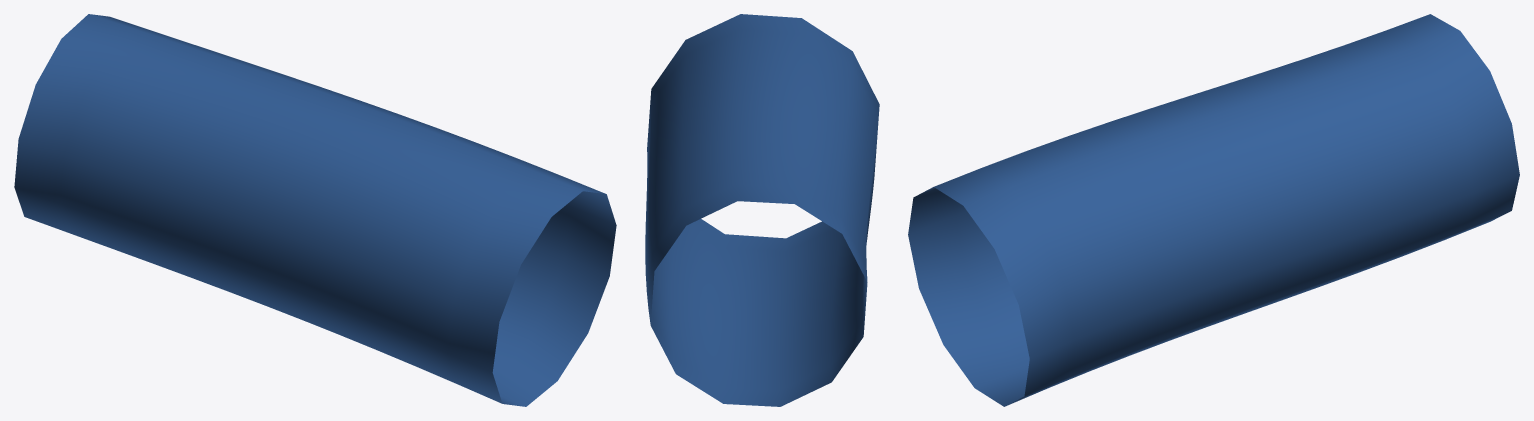
The picture shows the model from 3 angles, left to right: view 1: azimuth 30°, elevation 25°; view 2: azimuth 150°, elevation 25°; view 3: azimuth 270°, elevation 25°; orthographic projection.
Parts seen in each view (by area): view 1: 右侧中间支气管; view 2: 右侧中间支气管; view 3: 右侧中间支气管.
Boxes of the visible parts, x1,y1,x2,y2 form: 右侧中间支气管: (14, 14, 616, 406); 右侧中间支气管: (645, 14, 879, 406); 右侧中间支气管: (908, 14, 1519, 406).
Size of the model in its own units: 0.0439 by 0.0271 by 0.0572.
